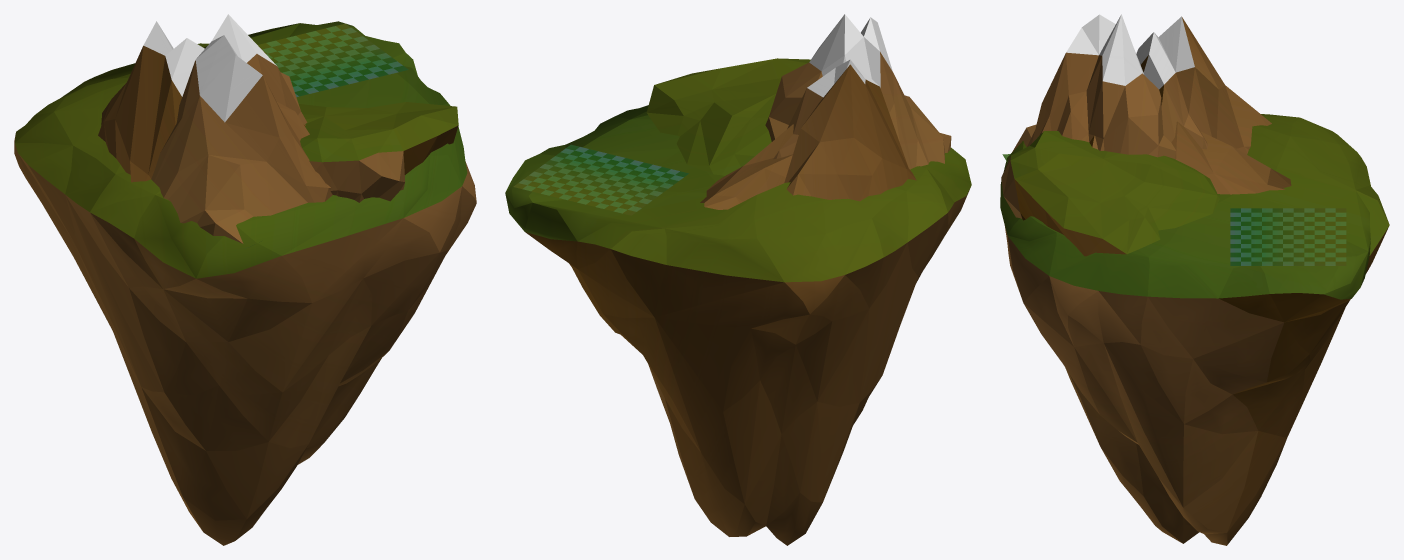
3 renders of one model, left to right at view 1: azimuth 30°, elevation 25°; view 2: azimuth 150°, elevation 25°; view 3: azimuth 270°, elevation 25°, orthographic. The views are drawn at different scales.
Parts seen in each view (by area): view 1: rock_1, 4seasons_mountain1, 4seasons_mountain006, 4seasons_mountain2, plane_map; view 2: rock_1, 4seasons_mountain2, 4seasons_mountain006, 4seasons_mountain1, plane_map, 4seasons_mountain003; view 3: rock_1, 4seasons_mountain006, 4seasons_mountain1, 4seasons_mountain2, plane_map, 4seasons_mountain003.
Part boxes in pixels (<box>): rock_1: <box>14,21,476,545</box>; 4seasons_mountain1: <box>151,14,332,249</box>; 4seasons_mountain006: <box>298,102,458,202</box>; 4seasons_mountain2: <box>98,21,204,182</box>; plane_map: <box>258,23,408,97</box>; rock_1: <box>505,105,971,545</box>; 4seasons_mountain2: <box>773,59,916,201</box>; 4seasons_mountain006: <box>646,58,810,175</box>; 4seasons_mountain1: <box>765,14,951,169</box>; plane_map: <box>513,144,688,215</box>; 4seasons_mountain003: <box>700,124,793,209</box>; rock_1: <box>1000,114,1389,545</box>; 4seasons_mountain006: <box>1001,131,1219,256</box>; 4seasons_mountain1: <box>1002,14,1176,162</box>; 4seasons_mountain2: <box>1136,16,1271,154</box>; plane_map: <box>1230,208,1346,265</box>; 4seasons_mountain003: <box>1089,121,1291,194</box>.
Bounding box in the file's own units: 3939 × 5410 × 3694.
6 materials, 6 textured.
